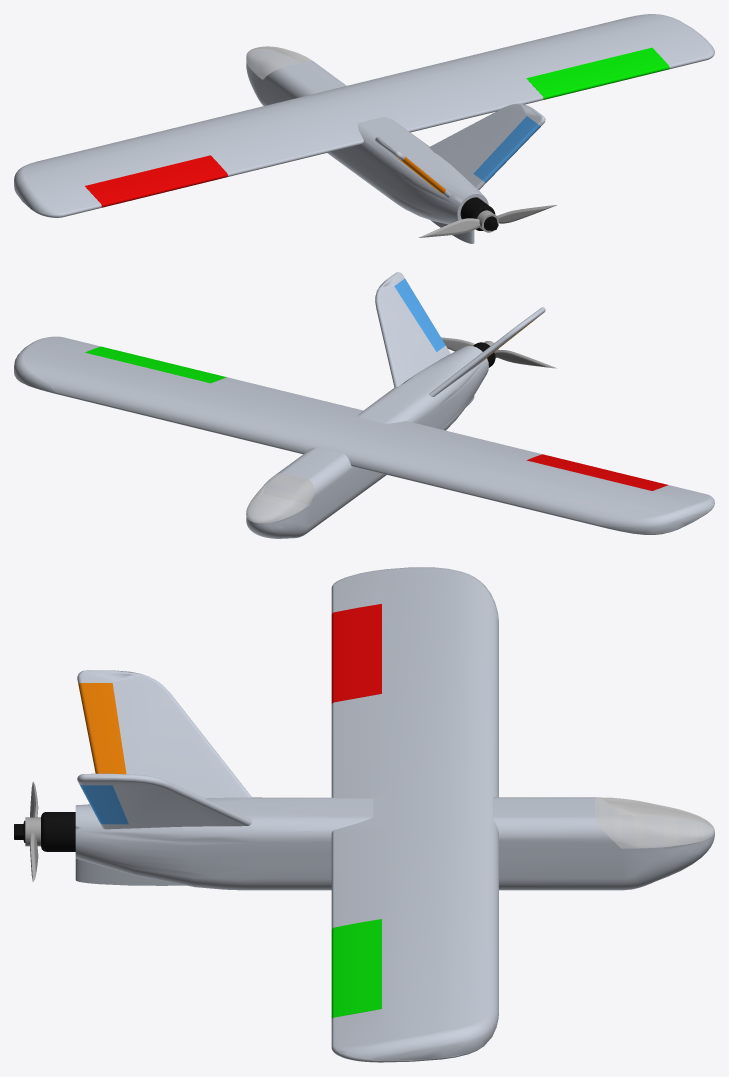
File: model_vtail_plane-7IgULs4P.gltf
3 renders of one model, top to bottom at view 1: azimuth 30°, elevation 25°; view 2: azimuth 150°, elevation 25°; view 3: azimuth 270°, elevation 25°, orthographic. The views are drawn at different scales.
Bounding box in the file's own units: 10.27 × 1.56 × 6.3.
